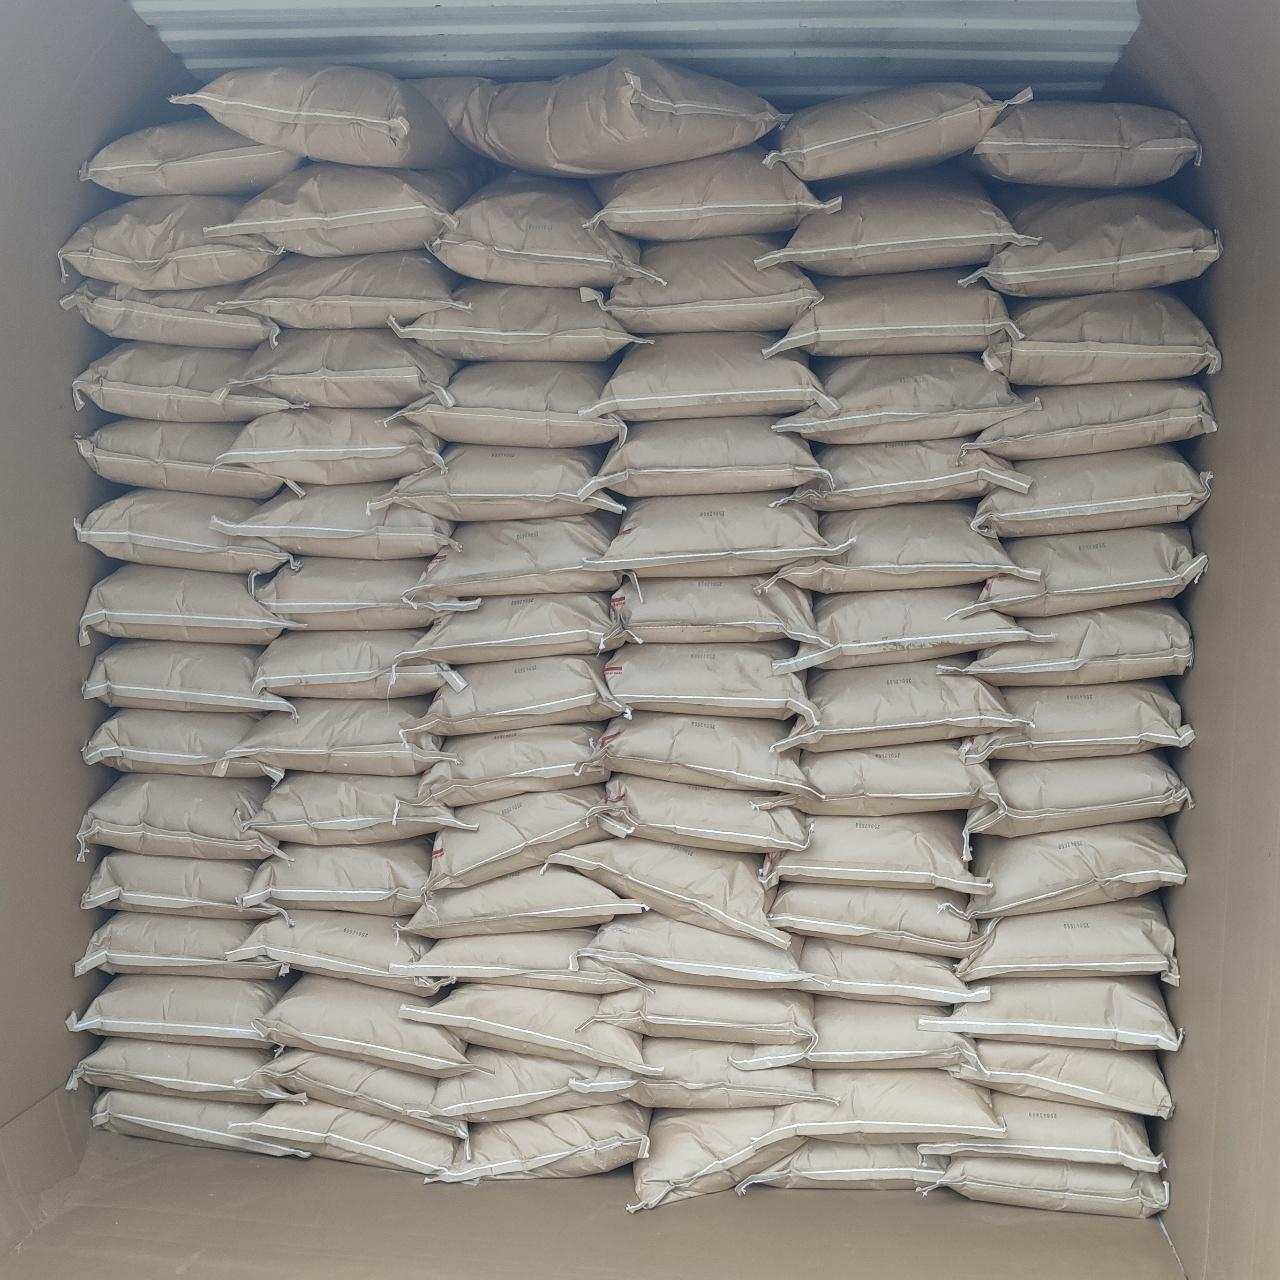sack: (412, 52, 788, 178), (172, 66, 464, 167), (757, 171, 1037, 275), (958, 190, 1221, 296), (543, 838, 790, 949), (431, 172, 664, 287), (754, 501, 1039, 595), (763, 83, 1032, 182), (237, 1048, 472, 1160), (586, 144, 844, 241), (939, 819, 1186, 920), (206, 163, 470, 257), (773, 585, 1058, 672), (963, 753, 1192, 861), (950, 524, 1207, 619), (580, 233, 820, 334), (399, 985, 662, 1077), (771, 354, 1039, 444), (772, 660, 1028, 752), (259, 975, 483, 1078), (580, 332, 837, 421), (982, 289, 1220, 385), (971, 445, 1212, 538), (586, 492, 852, 576), (766, 269, 1019, 357), (938, 599, 1193, 686), (426, 785, 632, 891), (58, 195, 284, 290), (388, 280, 653, 361), (964, 377, 1216, 460), (578, 416, 828, 499), (967, 100, 1200, 188), (389, 361, 626, 447), (587, 711, 818, 798), (367, 444, 625, 521), (957, 895, 1179, 984), (215, 249, 464, 328), (212, 327, 457, 407), (922, 1092, 1162, 1173), (960, 679, 1193, 762), (919, 976, 1180, 1050), (759, 738, 1006, 816), (227, 910, 450, 996), (210, 482, 459, 559), (72, 341, 308, 422), (77, 774, 292, 862), (74, 489, 299, 573), (425, 1100, 650, 1184), (570, 1038, 839, 1108), (731, 996, 982, 1071), (76, 418, 305, 500), (772, 439, 1032, 511), (404, 516, 619, 603), (399, 863, 645, 939), (401, 655, 631, 736), (568, 912, 813, 988), (759, 812, 988, 893), (66, 975, 291, 1057), (214, 696, 442, 776), (79, 565, 303, 646), (760, 1069, 1003, 1143), (628, 1108, 800, 1212), (605, 640, 815, 724), (390, 592, 629, 665), (768, 883, 997, 959), (229, 1100, 459, 1175), (216, 408, 442, 484), (243, 772, 478, 845), (588, 775, 806, 853), (407, 722, 609, 806), (389, 930, 654, 994), (80, 118, 300, 195), (247, 556, 478, 628), (958, 1040, 1171, 1118), (611, 573, 829, 649), (82, 640, 296, 717), (917, 1155, 1168, 1218), (65, 1038, 305, 1103), (237, 836, 432, 916), (62, 278, 278, 348), (82, 709, 283, 782), (254, 630, 466, 699), (75, 912, 291, 979), (92, 1090, 305, 1157), (82, 850, 287, 919), (580, 984, 814, 1044), (792, 935, 988, 1003), (431, 1045, 602, 1122), (737, 1139, 949, 1194)
